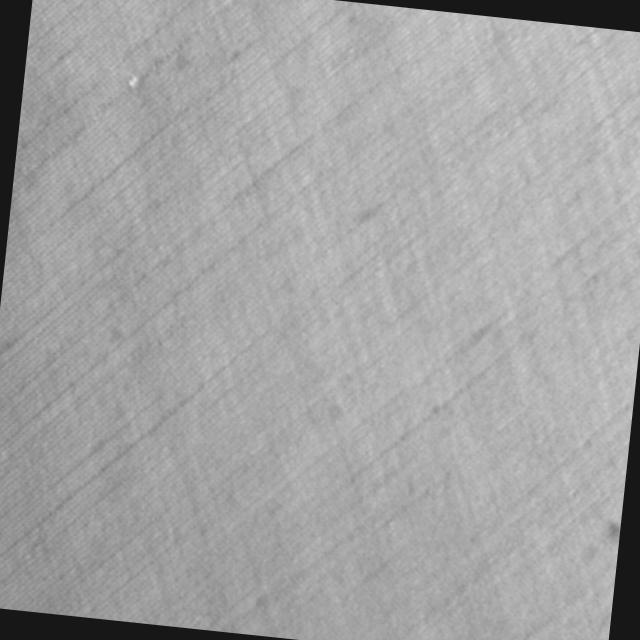hole: (126, 70, 140, 90)
